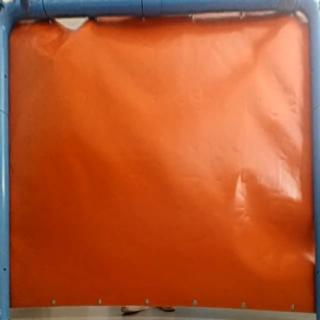Hit-hRxx: (43, 50, 62, 64)
